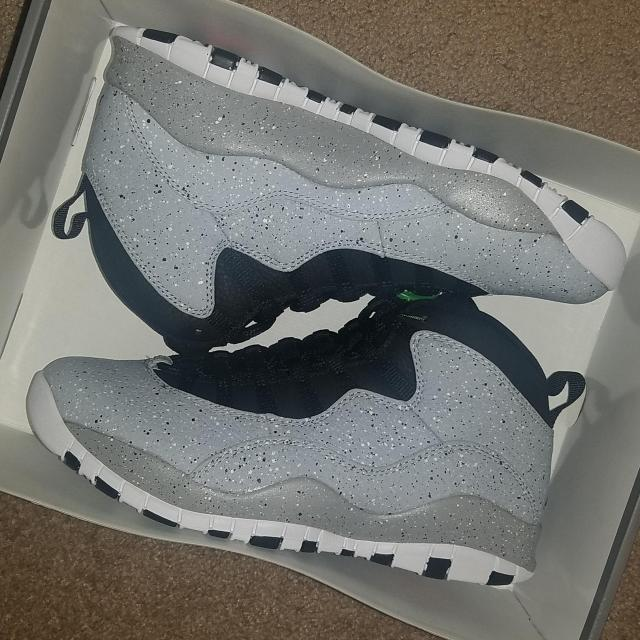shoe: (76, 23, 629, 343), (23, 286, 574, 592)
